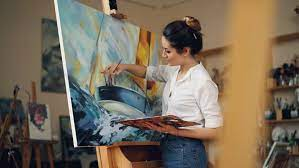person: (102, 17, 231, 168)
